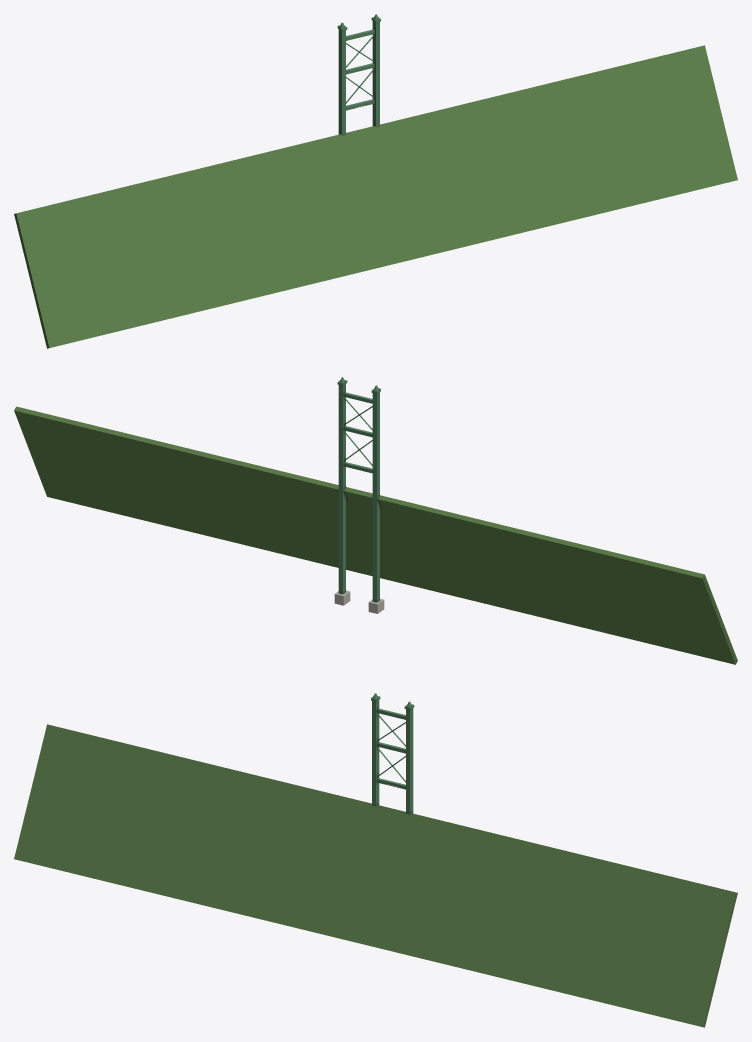
Rendered from torre_ambassador.glb.
3 views of the same model, one above another, from view 1: azimuth 30°, elevation 25°; view 2: azimuth 150°, elevation 25°; view 3: azimuth 330°, elevation 25° (orthographic).
Visible parts, largest first — view 1: torre_ambassador; view 2: torre_ambassador; view 3: torre_ambassador.
Boxes of the visible parts, left/top/right/bottom form: torre_ambassador: left=14, top=14, right=737, bottom=348; torre_ambassador: left=14, top=377, right=737, bottom=664; torre_ambassador: left=14, top=693, right=737, bottom=1027.
Bounding box in the file's own units: 300 × 93.6 × 28.37.
1 material, 1 textured.
